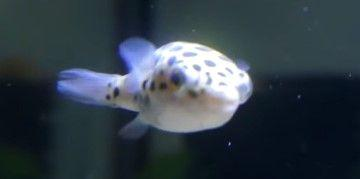Green Spotted Puffer: (59, 37, 253, 141)
